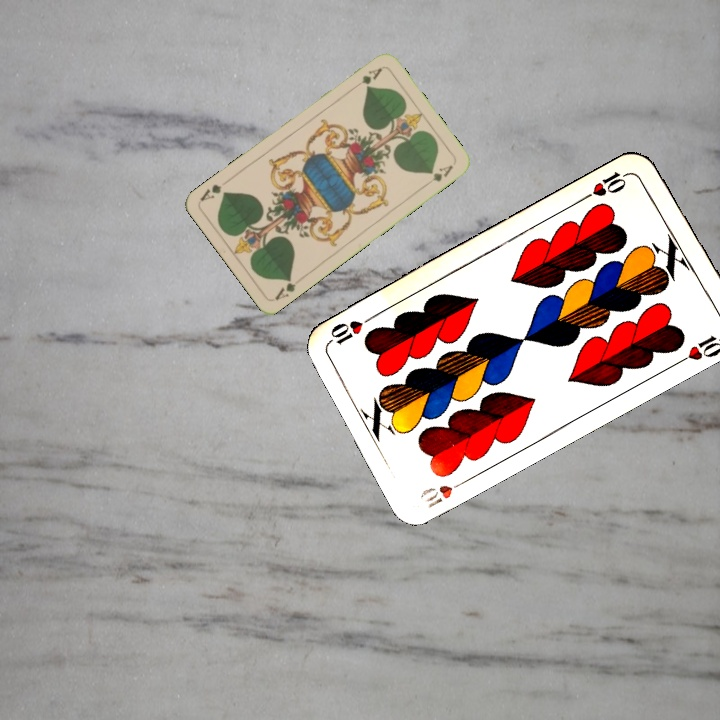GA: (270, 273, 299, 303), (357, 64, 385, 90)
H10: (415, 474, 472, 511), (580, 167, 634, 203)
